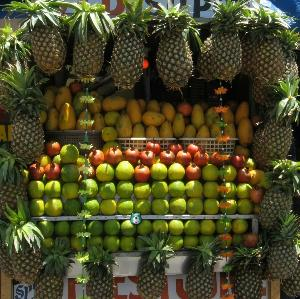apple: (64, 166, 258, 252)
mango: (41, 101, 252, 143)
pineapple: (7, 0, 285, 84), (244, 0, 298, 296), (34, 245, 300, 293), (0, 78, 49, 294)
